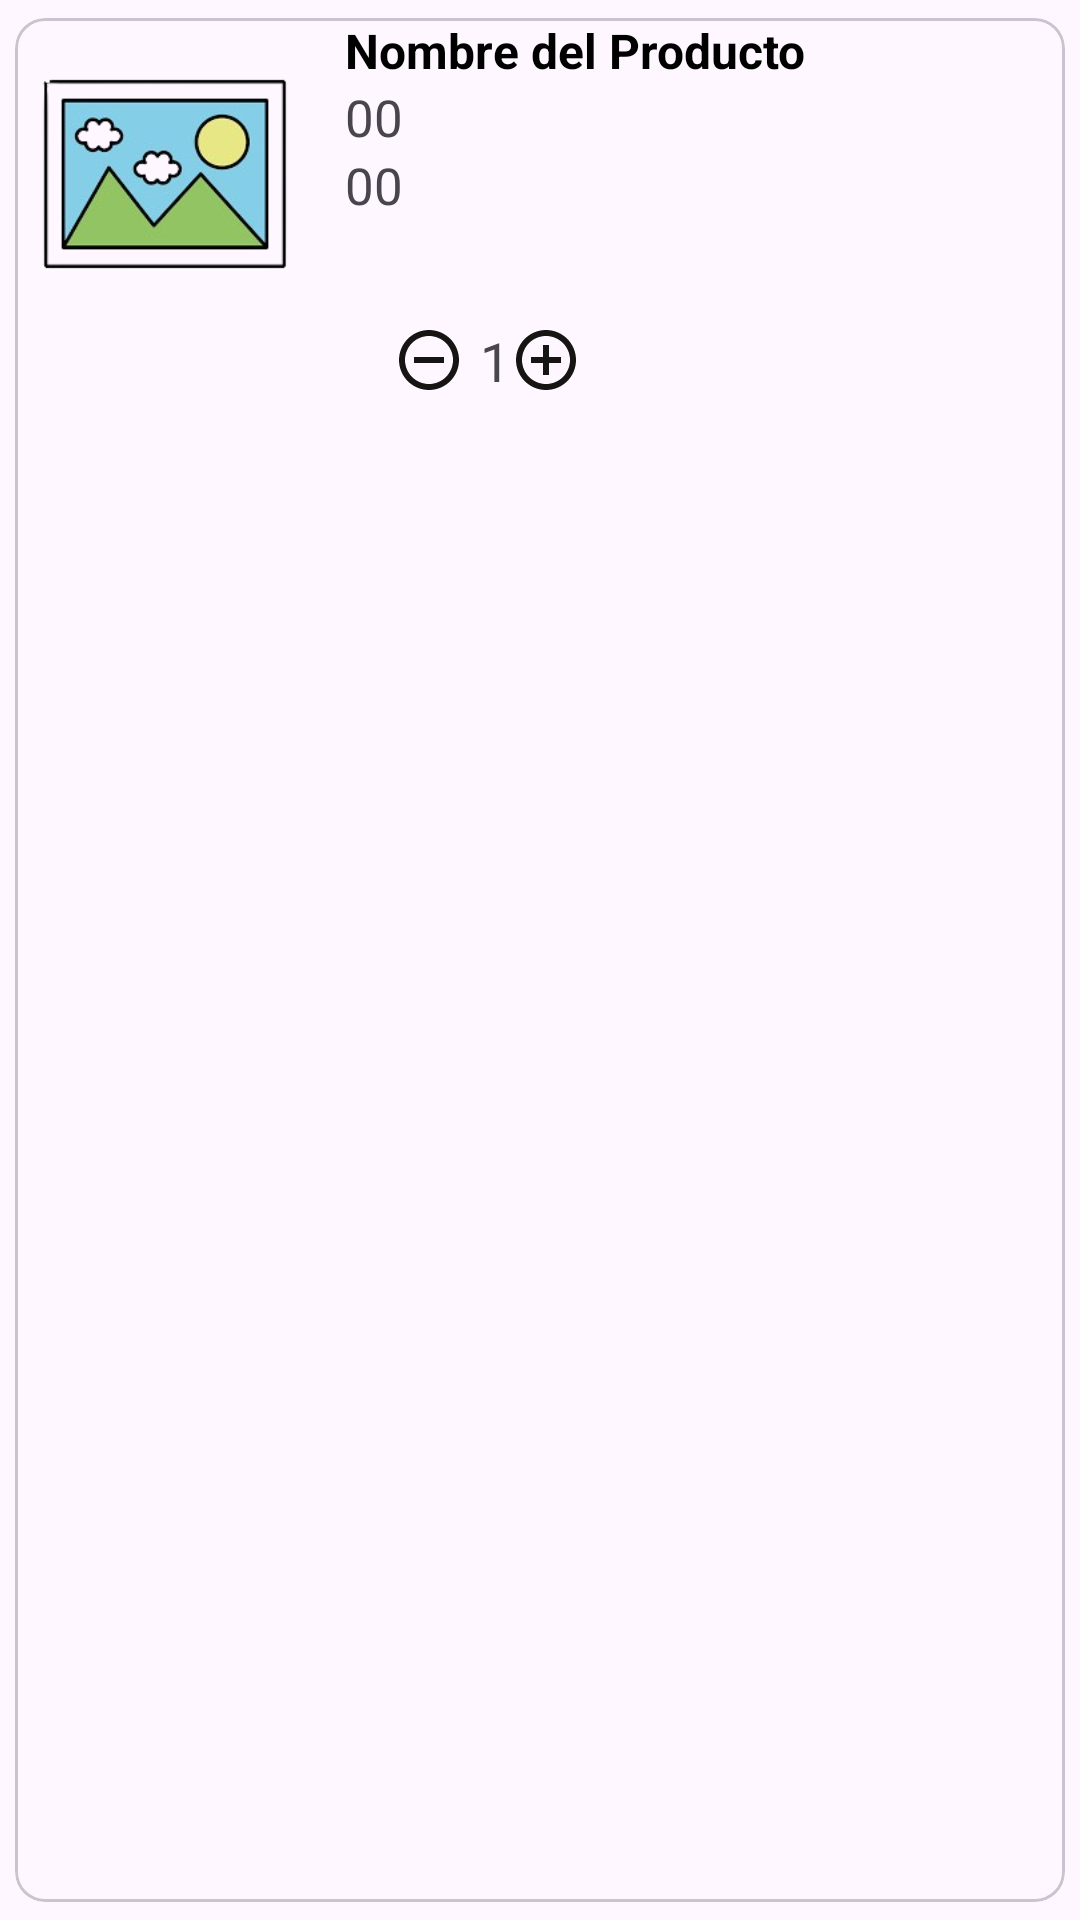

Icon click points for this 1080px×1920px phone screenshot, format (x,y):
mas: (546,360)
menos: (429,360)
